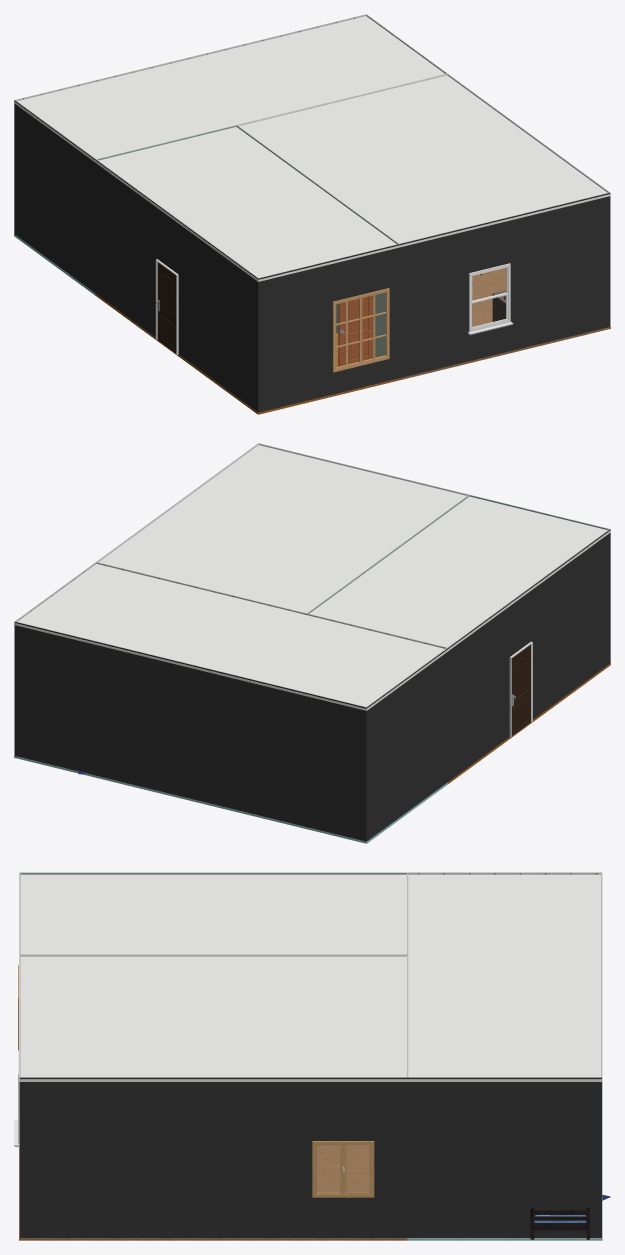
File: ProcTHOR-Train-38.glb
3 renders of one model, top to bottom at view 1: azimuth 30°, elevation 25°; view 2: azimuth 150°, elevation 25°; view 3: azimuth 270°, elevation 25°, orthographic. The views are drawn at different scales.
Parts seen in each view (by area): view 1: Ceiling#room|6|c, Ceiling#room|2|c, WallInside#wall|exterior|0.00|11.46|5.73|11.46, Ceiling#room|7|c, WallInside#wall|exterior|9.55|3.82|9.55|11.46, WallInside#wall|exterior|5.73|11.46|9.55|11.46, WallInside#wall|exterior|9.55|0.00|9.55|3.82, Doorway_9, Floor#room|6|f, Window_Fixed_60x72, Doorway_10_open, WallInside#wall|7|5.73|3.82|5.73|11.46 (+3 smaller); view 2: WallInside#wall|exterior|0.00|0.00|9.55|0.00, Ceiling#room|6|c, Ceiling#room|2|c, Ceiling#room|7|c, WallInside#wall|exterior|9.55|3.82|9.55|11.46, WallInside#wall|exterior|9.55|0.00|9.55|3.82, Doorway_9, Floor#room|2|f; view 3: WallInside#wall|exterior|0.00|3.82|0.00|11.46, Ceiling#room|6|c, Ceiling#room|2|c, Ceiling#room|7|c, WallInside#wall|exterior|0.00|0.00|0.00|3.82, Floor#room|6|f, Window_Slider_48x48, Bed_20, WallInside#wall|6|5.73|3.82|5.73|11.46, WallInside#wall|7|9.55|3.82|9.55|11.46, Floor#room|2|f, WallInside#wall|2|9.55|0.00|9.55|3.82 (+1 smaller).
Boxes of the visible parts, x1,y1,x2,y2 form: Ceiling#room|6|c: (237,75,610,247); Ceiling#room|2|c: (14,16,444,162); WallInside#wall|exterior|0.00|11.46|5.73|11.46: (399,192,610,377); Ceiling#room|7|c: (95,127,399,281); WallInside#wall|exterior|9.55|3.82|9.55|11.46: (96,159,258,412); WallInside#wall|exterior|5.73|11.46|9.55|11.46: (258,244,399,412); WallInside#wall|exterior|9.55|0.00|9.55|3.82: (14,100,95,293); Doorway_9: (155,259,178,354); Floor#room|6|f: (399,267,610,379); Window_Fixed_60x72: (333,288,389,372); Doorway_10_open: (338,295,372,366); WallInside#wall|7|5.73|3.82|5.73|11.46: (236,125,398,357); WallInside#wall|exterior|0.00|0.00|9.55|0.00: (14,621,366,841); Ceiling#room|6|c: (97,445,469,613); Ceiling#room|2|c: (14,564,448,710); Ceiling#room|7|c: (309,496,610,651); WallInside#wall|exterior|9.55|3.82|9.55|11.46: (447,529,610,781); WallInside#wall|exterior|9.55|0.00|9.55|3.82: (366,648,448,841); Doorway_9: (509,641,532,737); Floor#room|2|f: (14,755,447,843); WallInside#wall|exterior|0.00|3.82|0.00|11.46: (19,1077,408,1237); Ceiling#room|6|c: (19,956,408,1081); Ceiling#room|2|c: (406,874,602,1081); Ceiling#room|7|c: (19,874,408,956); WallInside#wall|exterior|0.00|0.00|0.00|3.82: (407,1077,601,1237); Floor#room|6|f: (19,1145,408,1240); Window_Slider_48x48: (312,1141,374,1197); Bed_20: (530,1195,610,1239); WallInside#wall|6|5.73|3.82|5.73|11.46: (20,954,406,956); WallInside#wall|7|9.55|3.82|9.55|11.46: (20,872,406,874); Floor#room|2|f: (406,1082,602,1240); WallInside#wall|2|9.55|0.00|9.55|3.82: (408,872,601,874).
Size of what is drawn, in the model's own units: 9.76 by 3.54 by 11.77.
236 materials, 101 textured.
